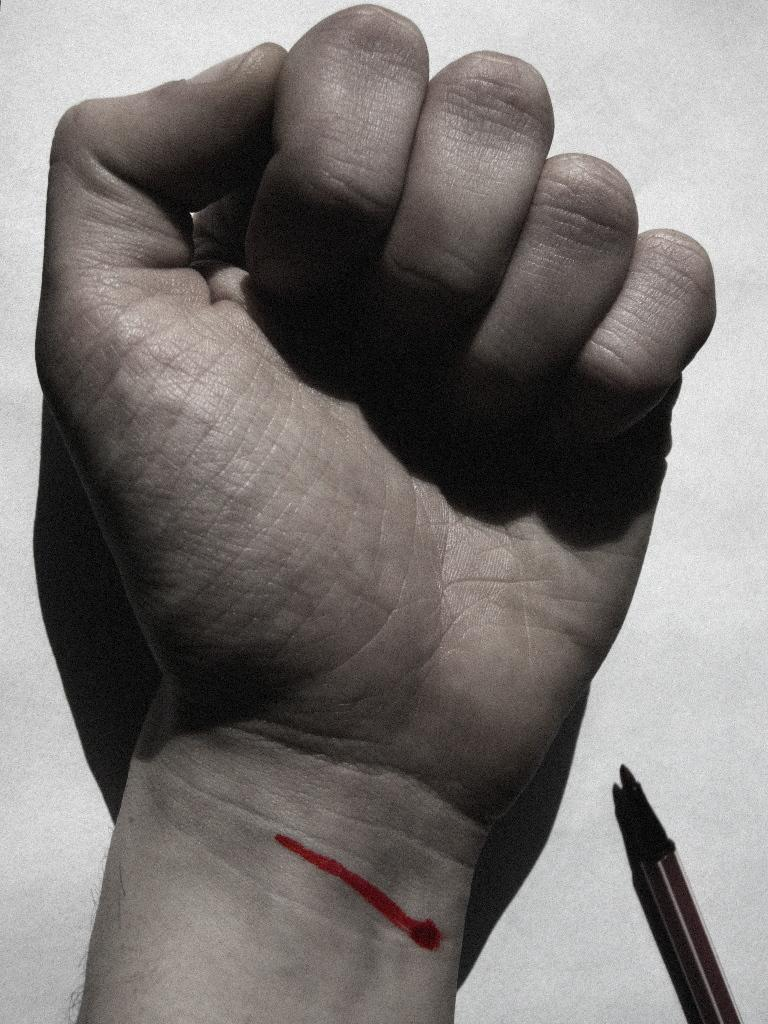pen: (612, 756, 742, 1023)
